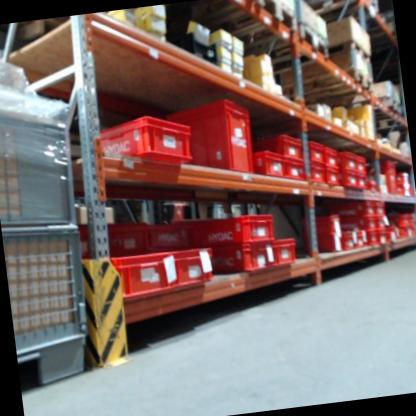pallet: (190, 0, 300, 55), (260, 18, 333, 76), (292, 65, 376, 105), (186, 0, 259, 23), (323, 35, 373, 67), (354, 96, 405, 124)
small_load_carrier: (163, 96, 259, 183), (82, 108, 193, 179), (99, 240, 219, 302), (209, 233, 300, 280), (188, 209, 278, 251), (74, 215, 152, 256), (141, 213, 197, 252), (255, 130, 305, 163), (361, 160, 400, 194), (300, 212, 344, 239), (253, 149, 286, 182), (331, 215, 378, 235), (306, 234, 346, 256), (329, 201, 377, 219), (279, 158, 307, 182), (306, 138, 327, 167), (338, 171, 361, 194), (338, 150, 358, 173), (308, 165, 329, 186), (383, 212, 409, 227), (325, 167, 343, 188), (327, 145, 341, 168), (337, 234, 355, 251), (377, 229, 391, 248), (357, 175, 371, 193), (395, 227, 411, 242), (358, 153, 368, 176), (368, 229, 380, 247), (355, 232, 366, 250), (396, 172, 411, 185), (377, 215, 389, 231), (375, 201, 387, 216), (388, 227, 398, 242)
stillage: (0, 90, 108, 391)
